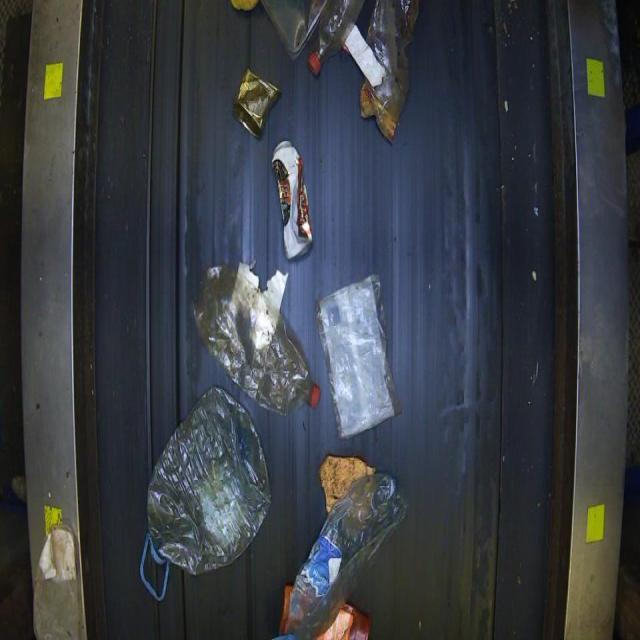cups: (315, 273, 401, 439)
other-trash: (144, 385, 271, 577)
trashbin: (11, 0, 633, 639)
